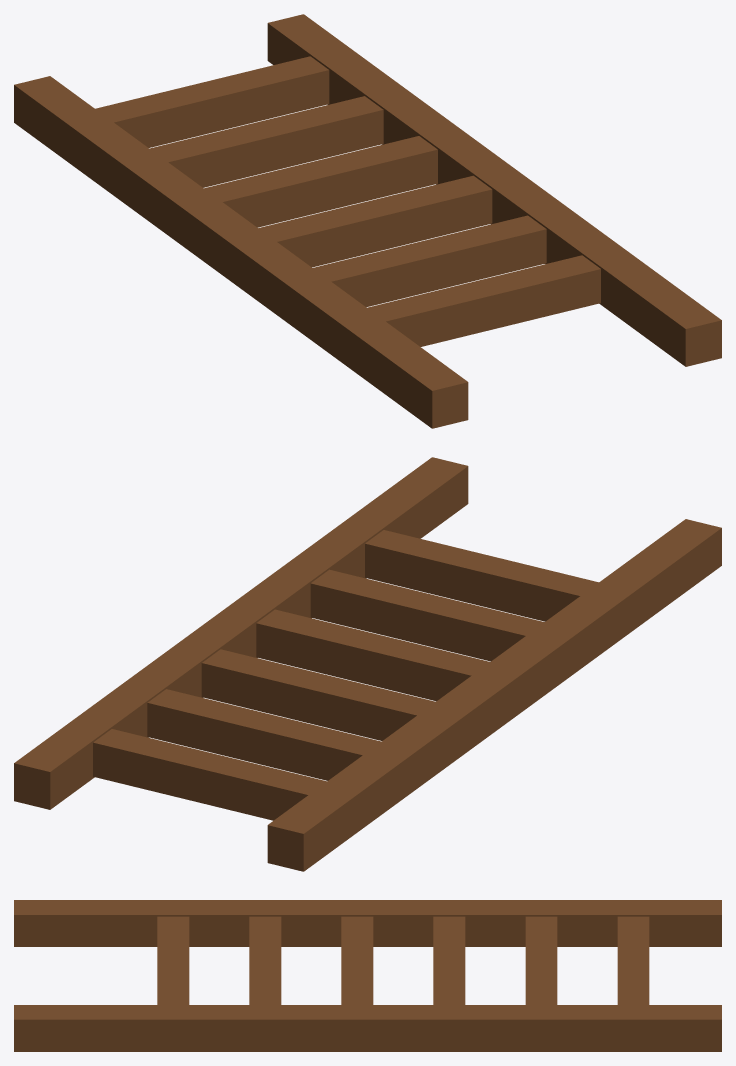
The model's file is SM_LorienTalanLadder.obj.
3 renders of one model, top to bottom at view 1: azimuth 30°, elevation 25°; view 2: azimuth 150°, elevation 25°; view 3: azimuth 270°, elevation 25°, orthographic. The views are drawn at different scales.
Parts seen in each view (by area): view 1: SM_LorienTalanLadder; view 2: SM_LorienTalanLadder; view 3: SM_LorienTalanLadder.
Boxes of the visible parts, x1,y1,x2,y2 form: SM_LorienTalanLadder: (14,14,721,428); SM_LorienTalanLadder: (14,457,721,871); SM_LorienTalanLadder: (14,900,721,1051).
Size of the model in its own units: 80 by 10 by 200.
